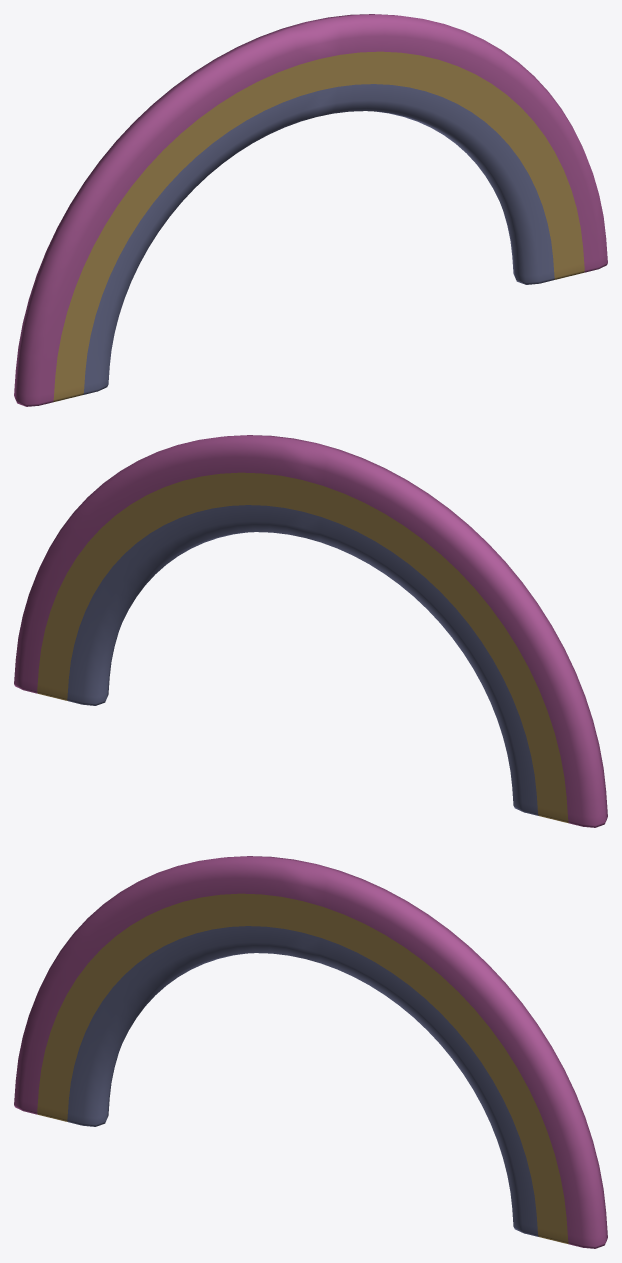
File: arch.fbx
The picture shows the model from 3 angles, top to bottom: view 1: azimuth 30°, elevation 25°; view 2: azimuth 150°, elevation 25°; view 3: azimuth 330°, elevation 25°; orthographic projection.
Parts seen in each view (by area): view 1: pCube1; view 2: pCube1; view 3: pCube1.
Boxes of the visible parts, bbox=[...] form: pCube1: bbox=[14, 14, 607, 406]; pCube1: bbox=[14, 435, 607, 827]; pCube1: bbox=[14, 856, 607, 1248].
Size of the model in its own units: 28.91 by 14.54 by 1.4.
